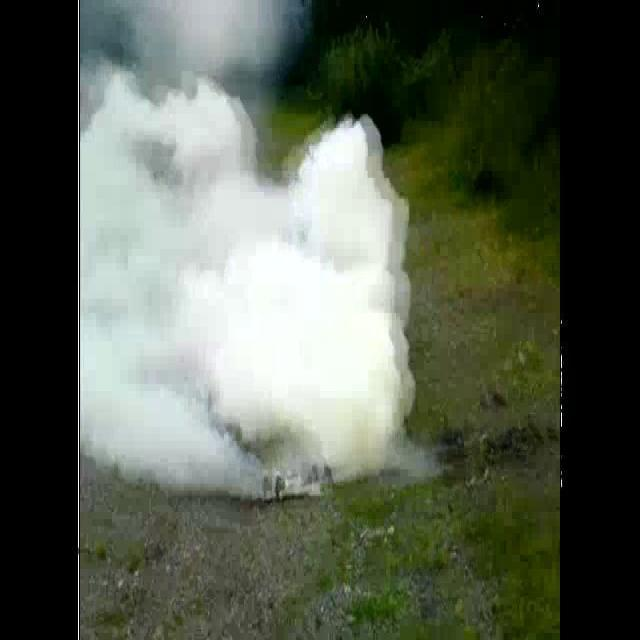Smoke: (79, 0, 417, 502), (387, 434, 445, 481)
